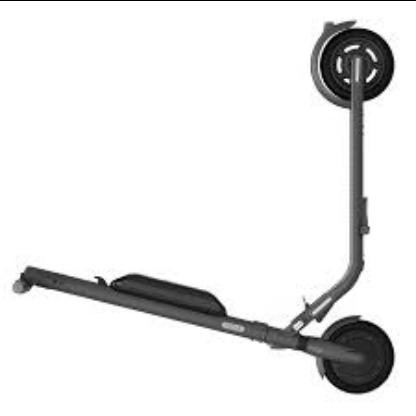bike: (1, 13, 398, 397)
